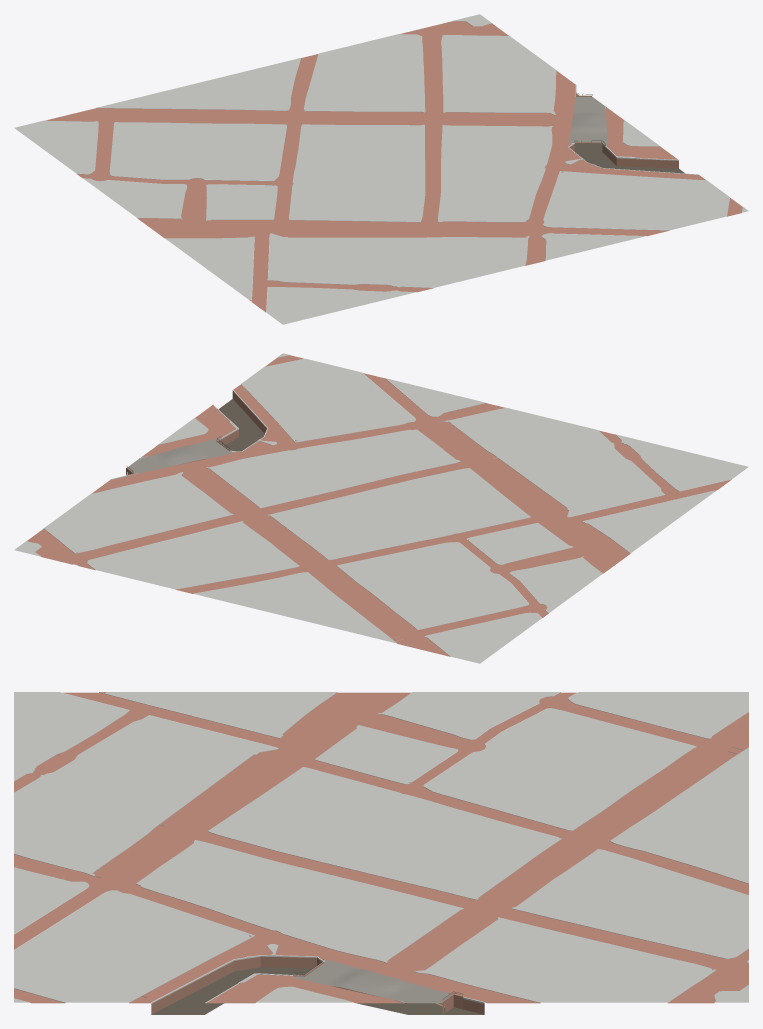
Rendered from ground_9_10.glb.
3 views of the same model, one above another, from view 1: azimuth 30°, elevation 25°; view 2: azimuth 150°, elevation 25°; view 3: azimuth 270°, elevation 25° (orthographic). The views are drawn at different scales.
Visible parts, largest first — view 1: ground_9_10; view 2: ground_9_10; view 3: ground_9_10.
Part boxes in pixels (left/top/right/bottom): ground_9_10: left=14, top=14, right=748, bottom=324; ground_9_10: left=14, top=353, right=748, bottom=663; ground_9_10: left=14, top=692, right=748, bottom=1014.
Bounding box in the file's own units: 203 × 4.6 × 200.
